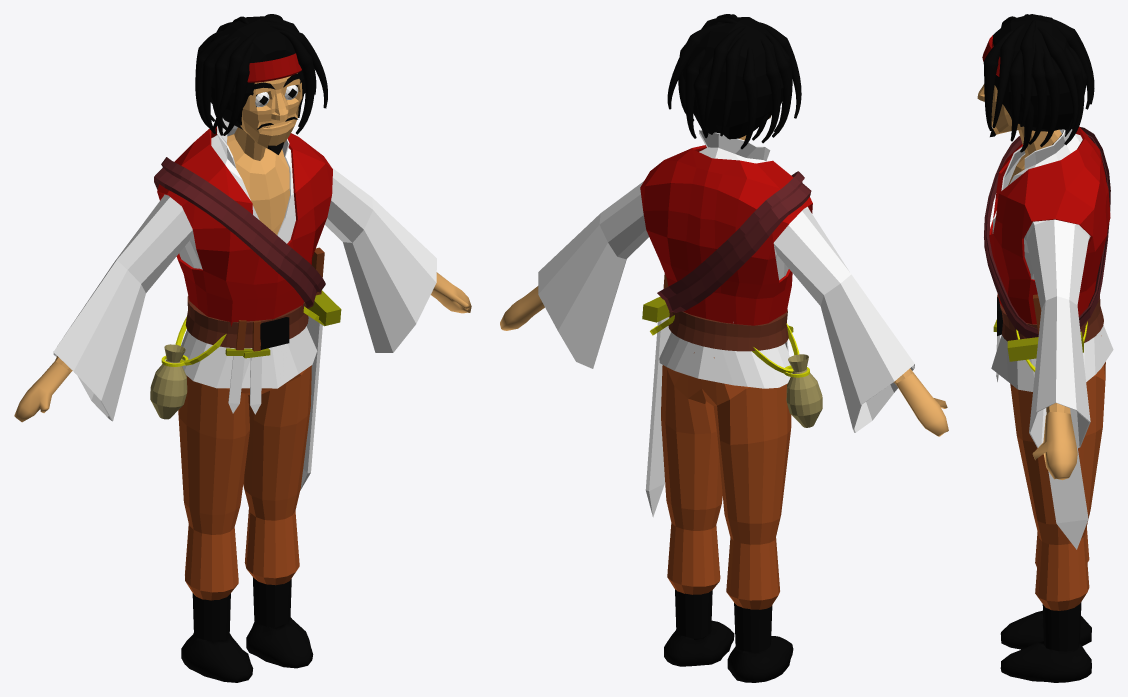
The model's file is Pirate_Model.fbx.
3 views of the same model, side by side, from view 1: azimuth 30°, elevation 25°; view 2: azimuth 150°, elevation 25°; view 3: azimuth 270°, elevation 25° (orthographic).
Visible parts, largest first — view 1: Cube.003, Cube.004, Cube.006, Cube.001, Cube.005, BezierCurve.019, Circle.001, Plane, Cube.008, Cube, Cylinder, Cube.012 (+2 smaller); view 2: Cube.003, Cube.004, Cube.006, BezierCurve.019, Cube.005, Circle.001, Cube.008, Plane, Cube, Cube.001, Cylinder; view 3: Cube.003, Cube.006, Cube.004, BezierCurve.019, Cube.005, Cube.001, Cube, Cube.008, Circle.001, Plane.
Boxes of the visible parts, x1,y1,x2,y2 form: Cube.003: [53, 118, 436, 421]; Cube.004: [178, 365, 311, 600]; Cube.006: [157, 127, 332, 326]; Cube.001: [14, 73, 471, 422]; Cube.005: [181, 577, 313, 682]; BezierCurve.019: [195, 14, 327, 135]; Circle.001: [154, 157, 325, 308]; Plane: [185, 296, 308, 349]; Cube.008: [210, 16, 305, 129]; Cube: [300, 247, 341, 490]; Cylinder: [150, 344, 187, 419]; Cube.012: [225, 320, 253, 413]; Cube.003: [538, 129, 914, 432]; Cube.004: [661, 352, 791, 609]; Cube.006: [640, 145, 812, 325]; BezierCurve.019: [667, 14, 801, 149]; Cube.005: [664, 589, 793, 682]; Circle.001: [657, 171, 811, 312]; Cube.008: [682, 17, 783, 139]; Plane: [668, 309, 788, 351]; Cube: [642, 273, 670, 517]; Cube.001: [500, 116, 948, 436]; Cylinder: [786, 354, 822, 427]; Cube.003: [991, 129, 1113, 448]; Cube.006: [989, 126, 1110, 324]; Cube.004: [1010, 335, 1105, 610]; BezierCurve.019: [983, 14, 1094, 152]; Cube.005: [1000, 602, 1091, 682]; Cube.001: [977, 46, 1077, 480]; Cube: [1007, 294, 1088, 549]; Cube.008: [992, 14, 1073, 131]; Circle.001: [984, 127, 1110, 338]; Plane: [997, 295, 1103, 342].
Bounding box in the file's own units: 215 × 290 × 56.22.
